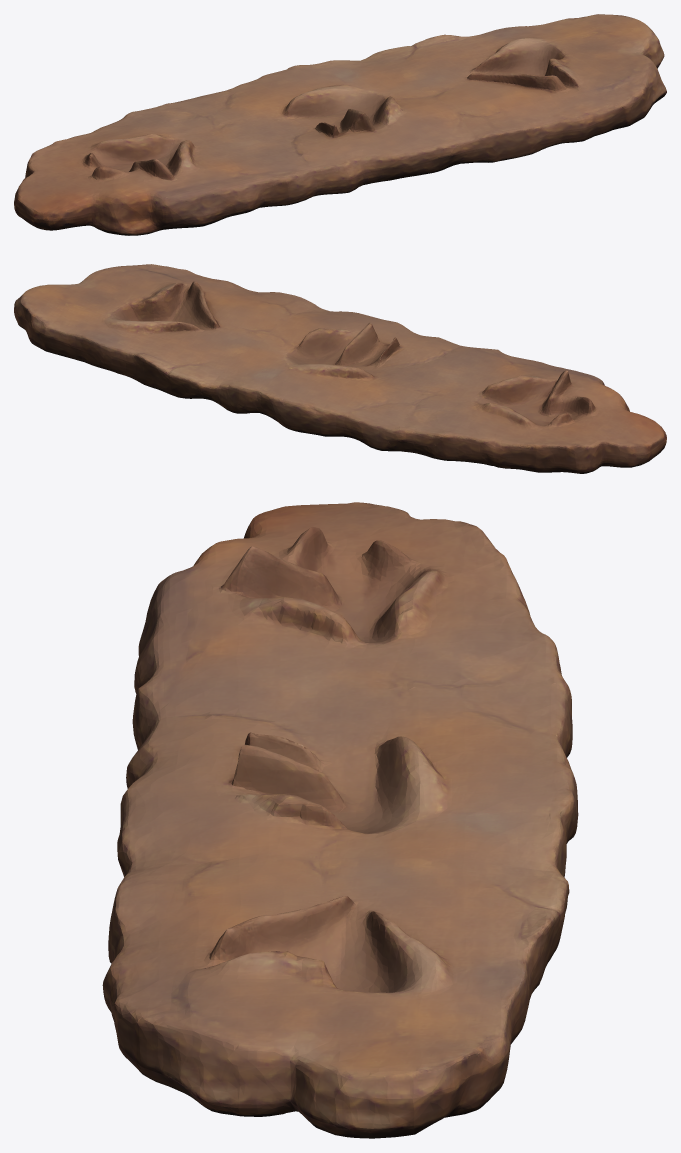
The picture shows the model from 3 angles, top to bottom: view 1: azimuth 30°, elevation 25°; view 2: azimuth 150°, elevation 25°; view 3: azimuth 270°, elevation 25°; orthographic projection. The views are drawn at different scales.
Parts seen in each view (by area): view 1: geometry_0; view 2: geometry_0; view 3: geometry_0.
Part boxes in pixels (x1,y1,x2,y2): geometry_0: (14, 14, 666, 235); geometry_0: (14, 264, 666, 473); geometry_0: (102, 502, 578, 1138).
Bounding box in the file's own units: 2.77 × 0.2682 × 0.9146.
Materials: 1 (1 with a texture image).
